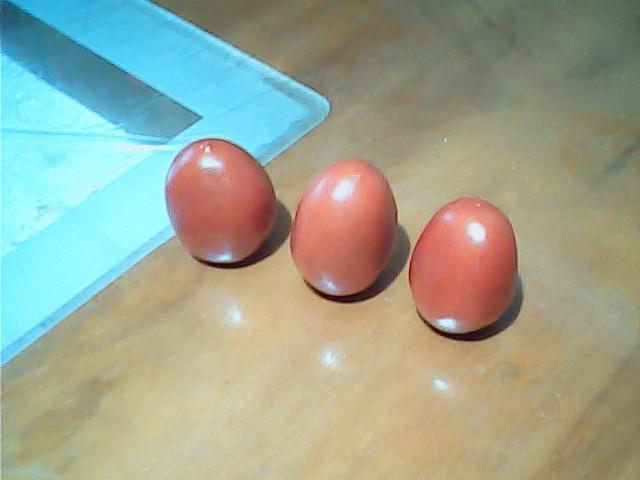maduro: (409, 199, 521, 333), (162, 138, 276, 265), (292, 161, 396, 295)
